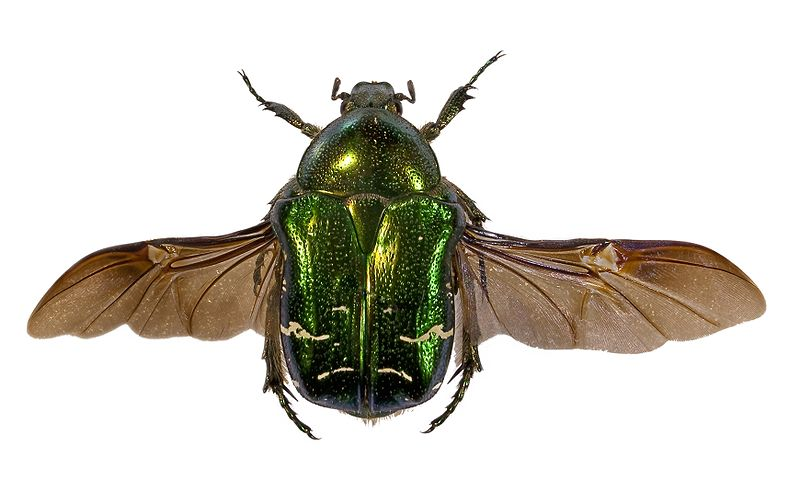Cetonia_aurata: (237, 44, 507, 440)
